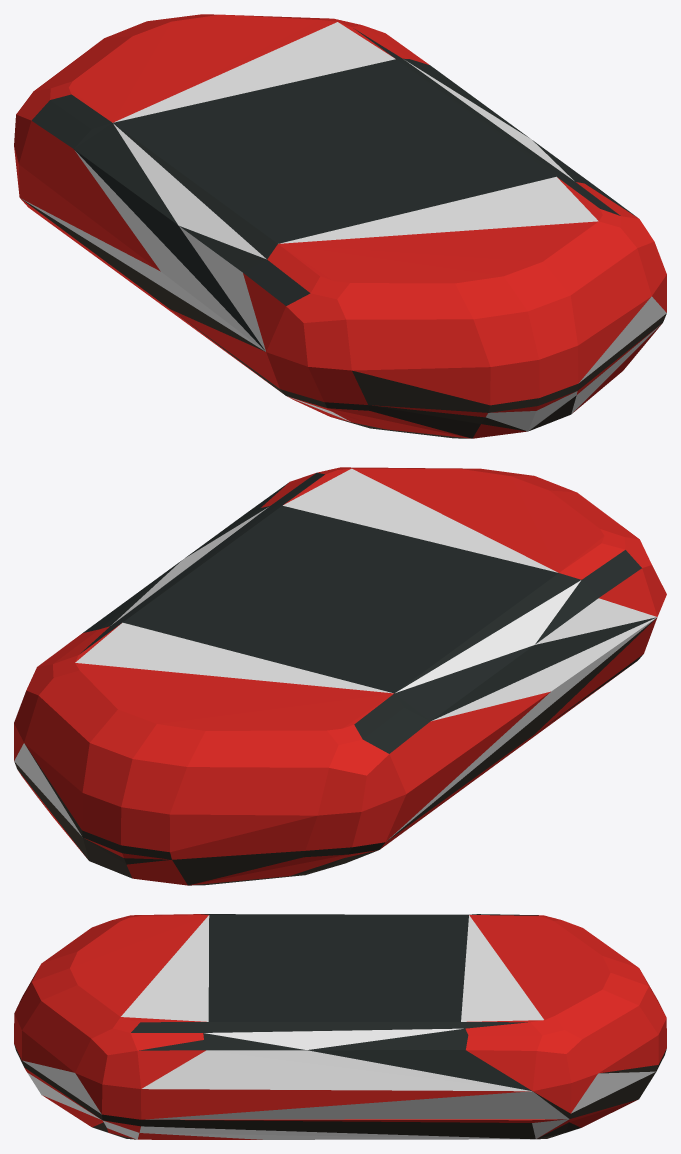
The model's file is dephtMask.fbx.
The picture shows the model from 3 angles, top to bottom: view 1: azimuth 30°, elevation 25°; view 2: azimuth 150°, elevation 25°; view 3: azimuth 270°, elevation 25°; orthographic projection. The views are drawn at different scales.
Visible parts, largest first — view 1: Cube; view 2: Cube; view 3: Cube.
Boxes of the visible parts, x1,y1,x2,y2 form: Cube: (14,14,666,438); Cube: (14,467,666,885); Cube: (14,914,666,1139).
Bounding box in the file's own units: 353 × 135 × 652.
